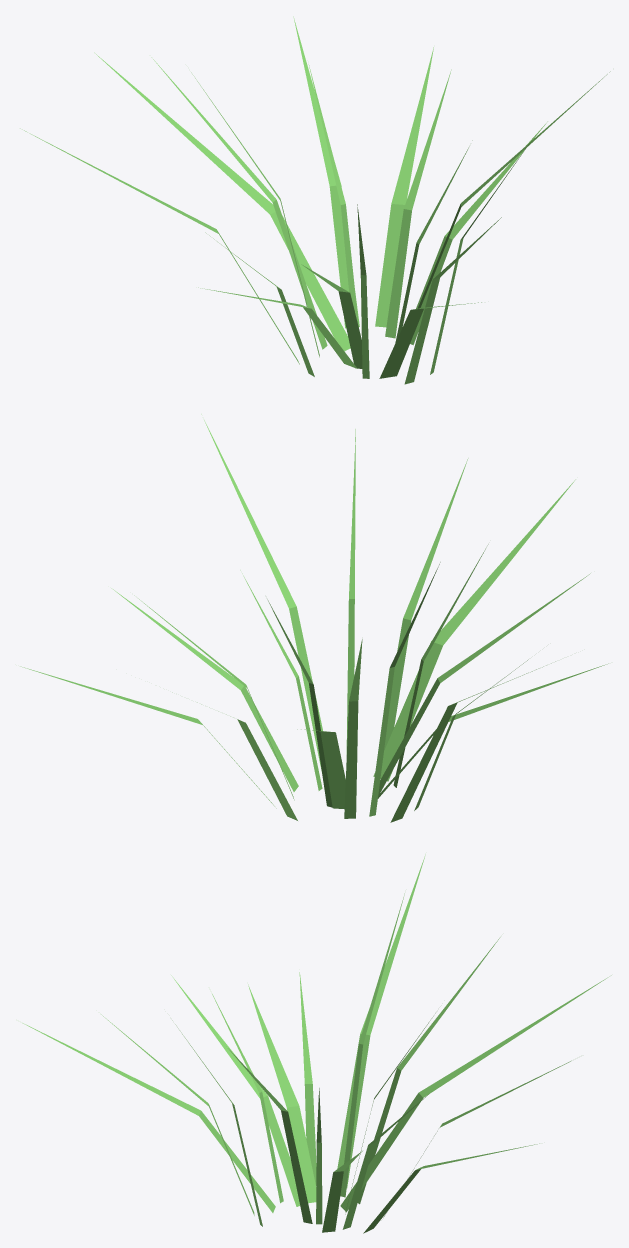
The model's file is LushGrassClump_A.glb.
3 renders of one model, top to bottom at view 1: azimuth 30°, elevation 25°; view 2: azimuth 150°, elevation 25°; view 3: azimuth 270°, elevation 25°, orthographic. The views are drawn at different scales.
Parts seen in each view (by area): view 1: LushGrassClump_A; view 2: LushGrassClump_A; view 3: LushGrassClump_A.
Part boxes in pixels (box(x1,y1,x2,y2)): LushGrassClump_A: box(20, 16, 610, 384); LushGrassClump_A: box(20, 414, 608, 822); LushGrassClump_A: box(22, 854, 611, 1233).
Bounding box in the file's own units: 1.59 × 0.8998 × 1.85.
